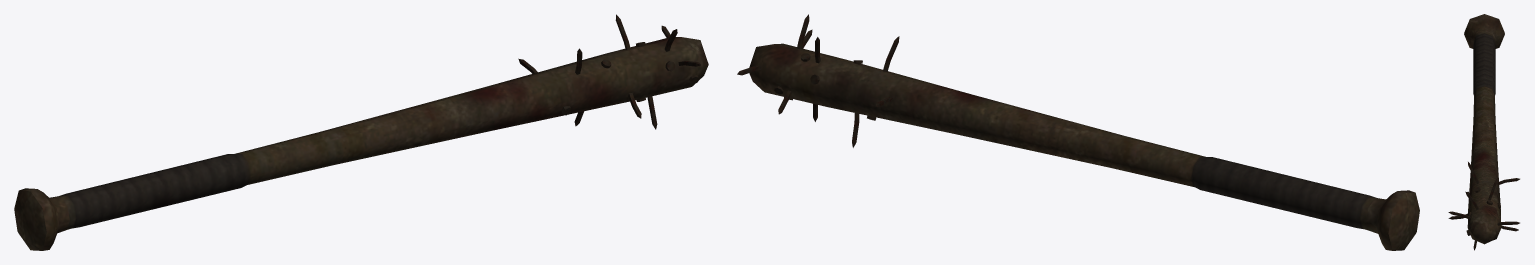
Rendered from baseball_bat_mx_2.fbx.
3 renders of one model, left to right at view 1: azimuth 30°, elevation 25°; view 2: azimuth 150°, elevation 25°; view 3: azimuth 270°, elevation 25°, orthographic. The views are drawn at different scales.
Parts seen in each view (by area): view 1: baseball_bat_mx_2; view 2: baseball_bat_mx_2; view 3: baseball_bat_mx_2.
Boxes of the visible parts, box(x1,y1,x2,y2) form: baseball_bat_mx_2: box(14, 14, 708, 250); baseball_bat_mx_2: box(737, 14, 1419, 250); baseball_bat_mx_2: box(1448, 14, 1519, 250).
Bounding box in the file's own units: 1.24 × 0.1866 × 0.1879.
